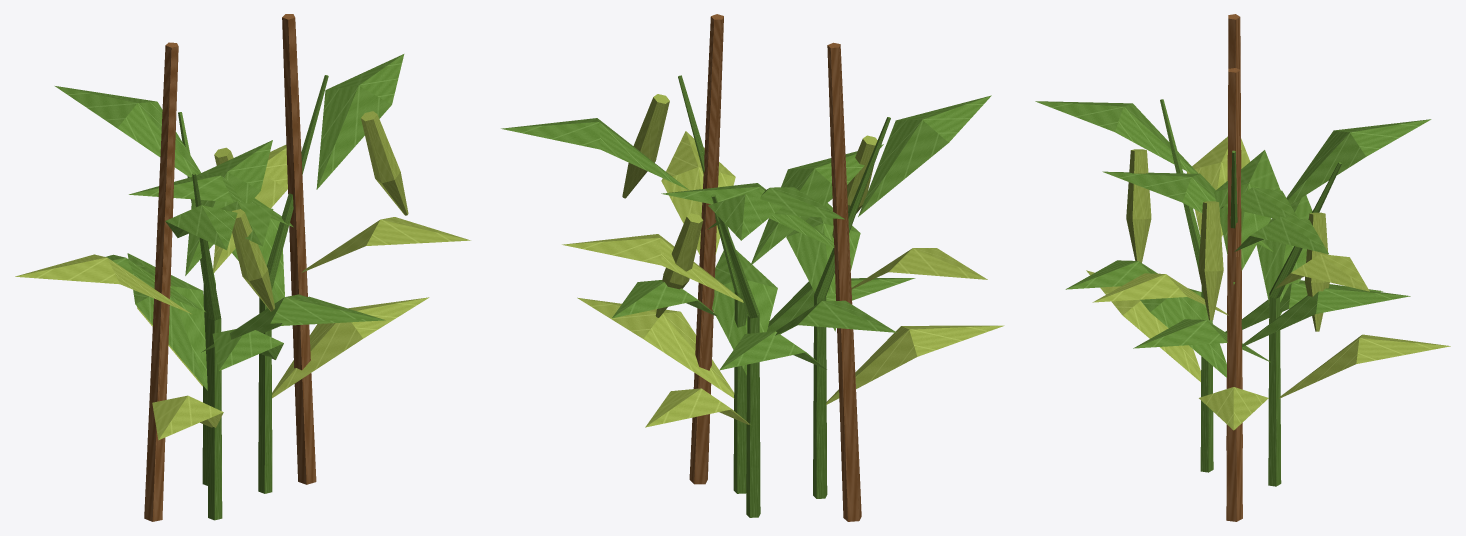
File: crop-bean-ready.glb
The picture shows the model from 3 angles, left to right: view 1: azimuth 30°, elevation 25°; view 2: azimuth 150°, elevation 25°; view 3: azimuth 270°, elevation 25°; orthographic projection. The views are drawn at different scales.
Parts seen in each view (by area): view 1: crop-bean-ready; view 2: crop-bean-ready; view 3: crop-bean-ready.
Part boxes in pixels (x1,y1,x2,y2): crop-bean-ready: (15, 14, 470, 521); crop-bean-ready: (501, 14, 1004, 521); crop-bean-ready: (1035, 14, 1450, 521).
Size of the model in its own units: 0.9414 by 0.9612 by 0.8257.
Materials: 1 (1 with a texture image).
